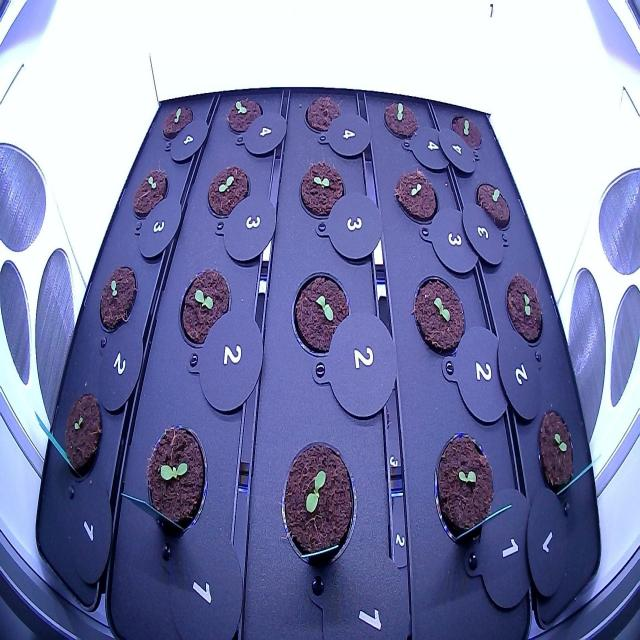germination: (272, 432, 361, 582), (431, 423, 502, 560), (140, 416, 210, 544), (287, 266, 356, 360), (174, 262, 234, 355), (408, 270, 469, 360), (532, 404, 583, 504), (60, 386, 106, 483), (294, 156, 350, 227), (500, 270, 547, 349), (95, 258, 139, 341), (390, 164, 443, 228), (201, 160, 255, 222), (127, 162, 175, 224), (470, 176, 514, 234), (378, 95, 422, 142), (222, 94, 266, 138), (446, 108, 487, 154), (158, 96, 196, 142)
pod: (301, 90, 347, 141)
